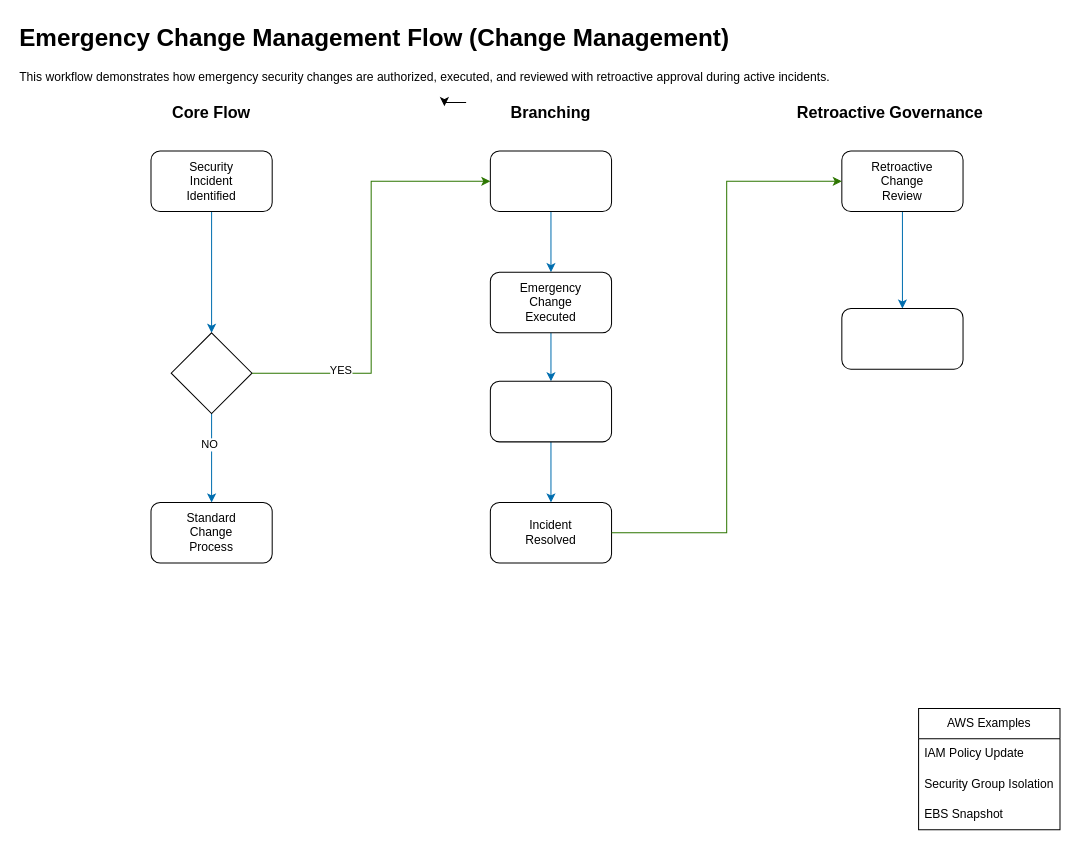
The diagram is 1089 pixels wide and 847 high, and some of its shapes have lost their labels. Each missing label, with the centre of its shape:
"Controls/Runbooks Updated" goes at (902,338).
"Emergency Change Required?" goes at (211,373).
"Evidence Preserved" goes at (550,411).
"Security IC Approval" goes at (550,181).
